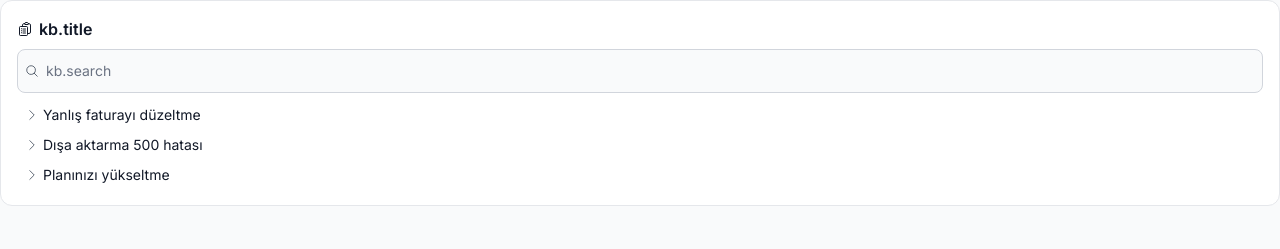
Test: KbPanel › makaleye tıklayınca gövdesini açar (akordeon)
The width and height of the screenshot is (1280, 249).
Expected: the text "Ayarlar → Faturalama" is not shown
Click the button "Planınızı yükseltme". click: (106, 174)
box: [17, 161, 1263, 189]
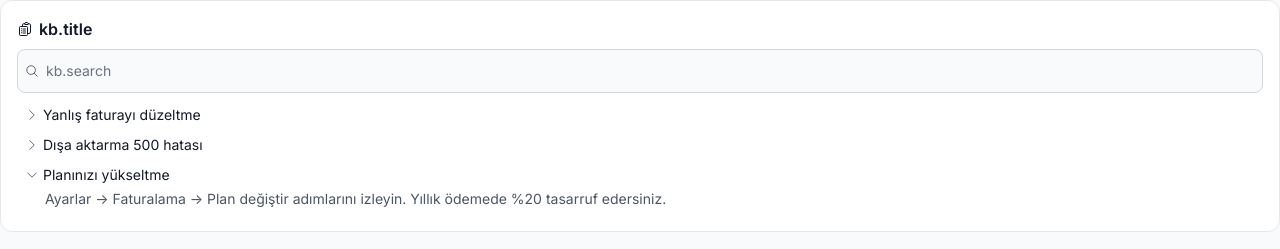
Expected: the text "Ayarlar → Faturalama" is shown, [45, 190, 666, 207]
